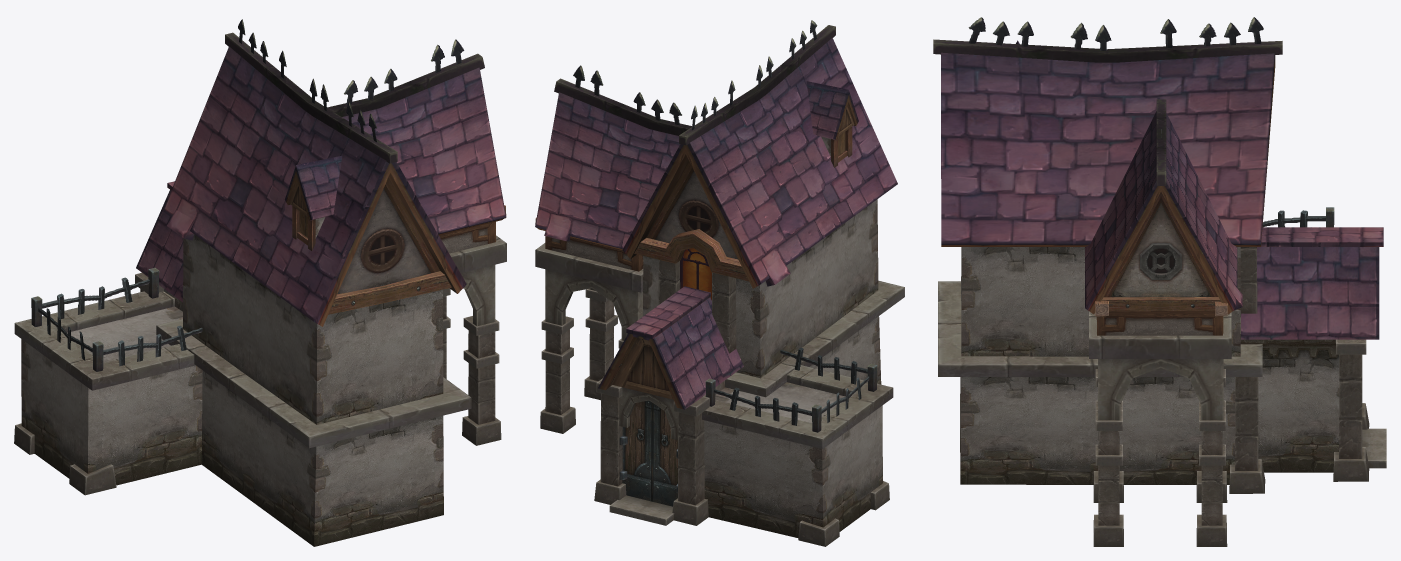
Rendered from building_city_zhuchengtushu02.FBX.
3 renders of one model, left to right at view 1: azimuth 30°, elevation 25°; view 2: azimuth 150°, elevation 25°; view 3: azimuth 270°, elevation 25°, orthographic. The views are drawn at different scales.
Visible parts, largest first — view 1: building_city_zhuchengtushu02; view 2: building_city_zhuchengtushu02; view 3: building_city_zhuchengtushu02.
Boxes of the visible parts, <box> form: building_city_zhuchengtushu02: <box>14,19,506,546</box>; building_city_zhuchengtushu02: <box>535,20,904,546</box>; building_city_zhuchengtushu02: <box>933,17,1386,546</box>.
Size of the model in its own units: 12.09 by 11.69 by 12.46.
